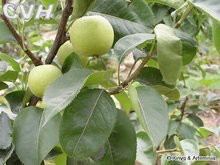pear: (70, 15, 114, 56), (28, 64, 63, 97), (57, 39, 88, 68)
